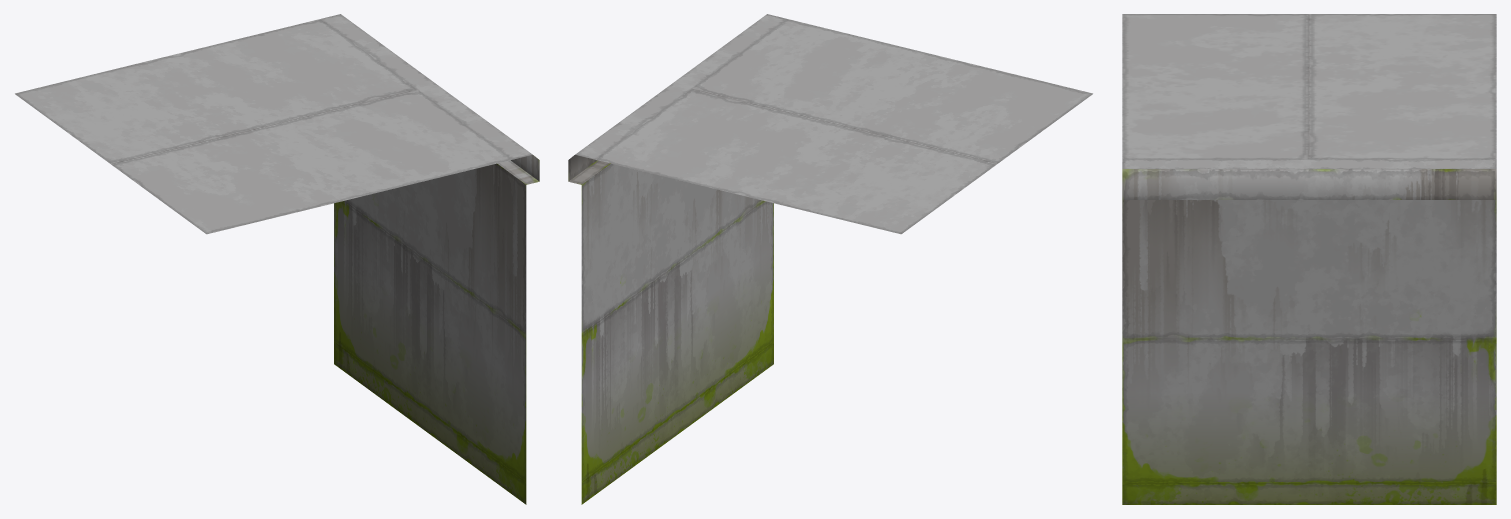
Rendered from SM_ENV_PORT_PIER_BLOCK_01.fbx.
The picture shows the model from 3 angles, left to right: view 1: azimuth 30°, elevation 25°; view 2: azimuth 150°, elevation 25°; view 3: azimuth 270°, elevation 25°; orthographic projection. The views are drawn at different scales.
Parts seen in each view (by area): view 1: SM_ENV_PORT_PIER_BLOCK_01; view 2: SM_ENV_PORT_PIER_BLOCK_01; view 3: SM_ENV_PORT_PIER_BLOCK_01.
Boxes of the visible parts, box(x1,y1,x2,y2) form: SM_ENV_PORT_PIER_BLOCK_01: box(15, 14, 539, 504); SM_ENV_PORT_PIER_BLOCK_01: box(568, 14, 1092, 504); SM_ENV_PORT_PIER_BLOCK_01: box(1122, 14, 1496, 504).
Size of the model in its own units: 5 by 5 by 5.
